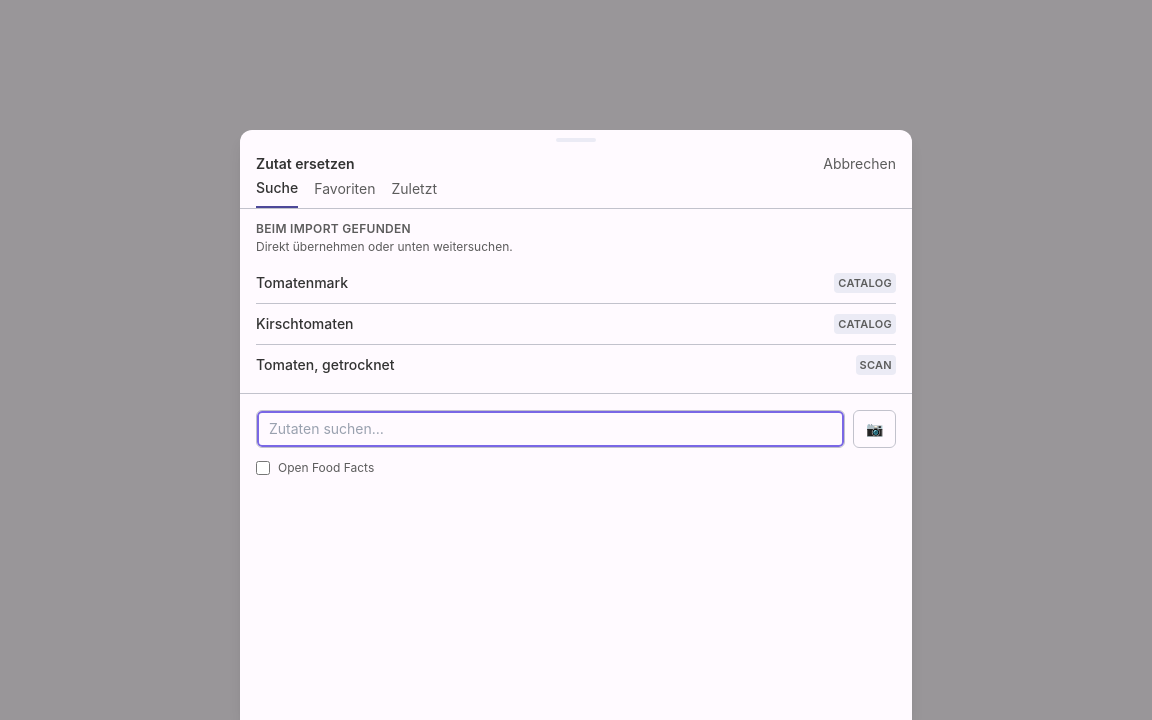
RecipeIngredientPicker — import candidates in replace mode › falls back to search with a notice when the candidate no longer resolves
Click the button with test id "picker-candidate-0": (302, 282) top-left (256, 263), bottom-right (896, 303)
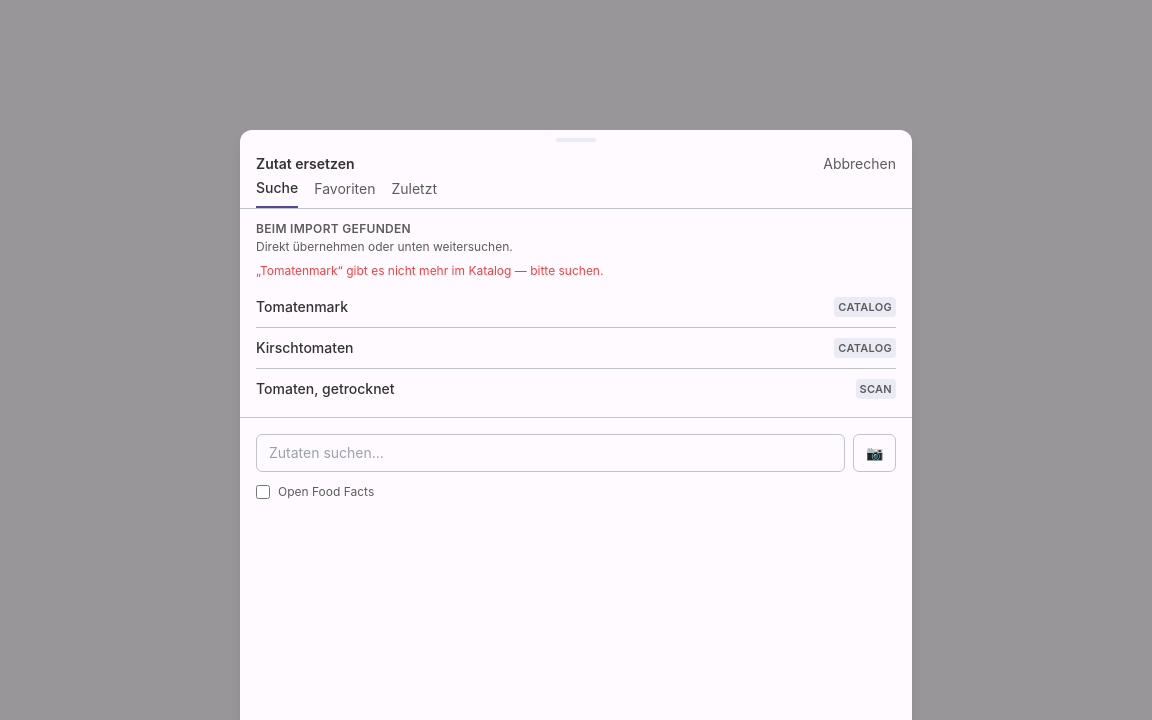
Expected: the dialog is shown, top-left (240, 130), bottom-right (912, 719)
Expected: the message reads "„Tomatenmark“ gibt es nicht mehr im Katalog — bitte suchen.", top-left (256, 263), bottom-right (603, 278)
